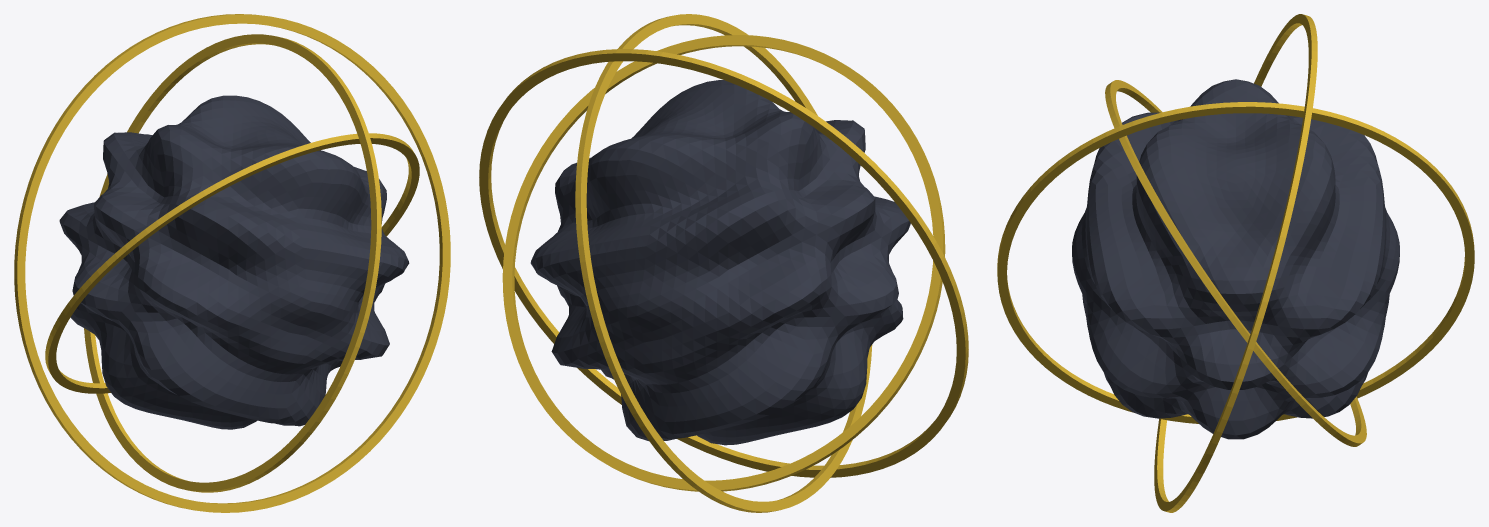
File: gpu-artifact.glb
3 renders of one model, left to right at view 1: azimuth 30°, elevation 25°; view 2: azimuth 150°, elevation 25°; view 3: azimuth 270°, elevation 25°, orthographic. The views are drawn at different scales.
Parts seen in each view (by area): view 1: pod-smart-router_obsidian_core, pod-smart-router_orbital_ring_2, pod-smart-router_orbital_ring_1, pod-smart-router_orbital_ring_0; view 2: pod-smart-router_obsidian_core, pod-smart-router_orbital_ring_0, pod-smart-router_orbital_ring_2, pod-smart-router_orbital_ring_1; view 3: pod-smart-router_obsidian_core, pod-smart-router_orbital_ring_1, pod-smart-router_orbital_ring_2, pod-smart-router_orbital_ring_0.
Boxes of the visible parts, left/top/right/bottom form: pod-smart-router_obsidian_core: left=59, top=95, right=409, bottom=429; pod-smart-router_orbital_ring_2: left=14, top=14, right=450, bottom=512; pod-smart-router_orbital_ring_1: left=84, top=34, right=381, bottom=492; pod-smart-router_orbital_ring_0: left=45, top=133, right=419, bottom=393; pod-smart-router_obsidian_core: left=530, top=80, right=910, bottom=445; pod-smart-router_orbital_ring_0: left=502, top=35, right=945, bottom=491; pod-smart-router_orbital_ring_2: left=479, top=49, right=968, bottom=477; pod-smart-router_orbital_ring_1: left=575, top=14, right=872, bottom=512; pod-smart-router_obsidian_core: left=1072, top=79, right=1399, bottom=439; pod-smart-router_orbital_ring_1: left=997, top=102, right=1474, bottom=423; pod-smart-router_orbital_ring_2: left=1154, top=14, right=1317, bottom=512; pod-smart-router_orbital_ring_0: left=1105, top=80, right=1366, bottom=446.
Size of the model in its own units: 3.24 by 3.1 by 3.
